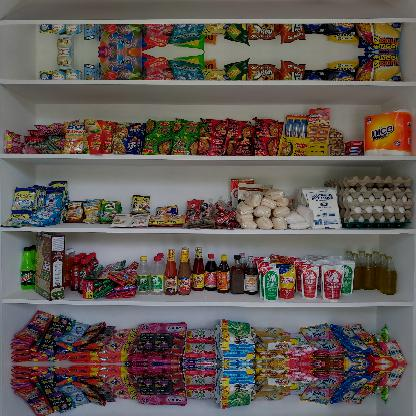Koko-Krunch: (32, 228, 66, 301)
